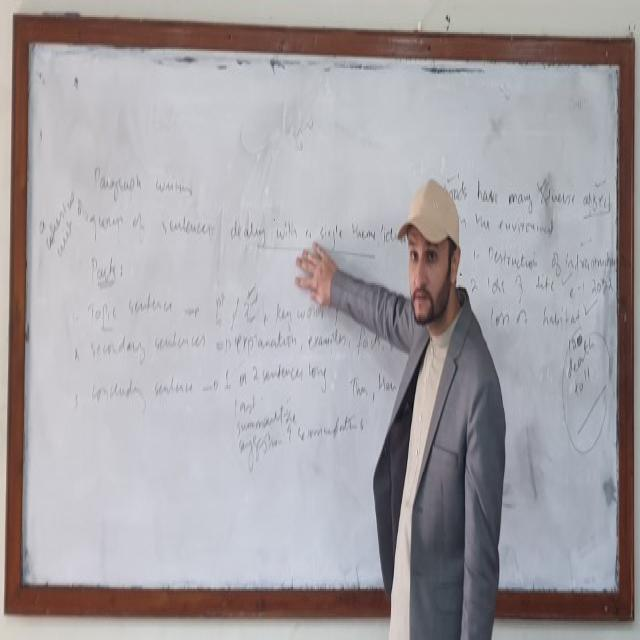Instructor: (372, 169, 499, 640)
White-board: (15, 29, 627, 609)
